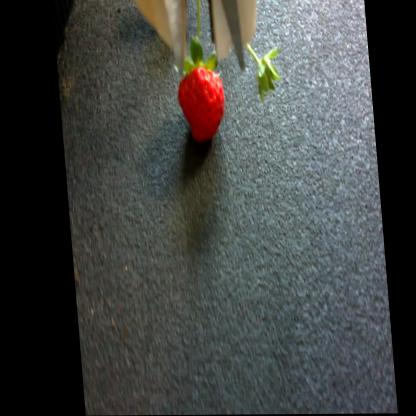ripe: (167, 58, 235, 141)
